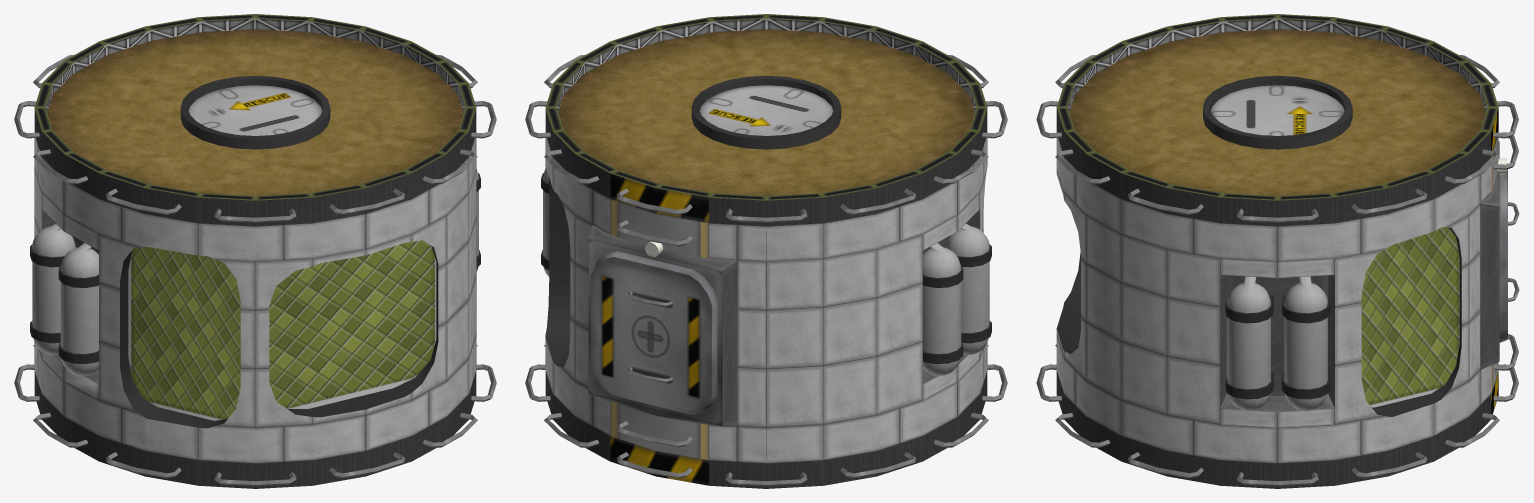
File: AirlockSpace.FBX
3 views of the same model, side by side, from view 1: azimuth 30°, elevation 25°; view 2: azimuth 150°, elevation 25°; view 3: azimuth 270°, elevation 25° (orthographic).
Visible parts, largest first — view 1: MainBody, TopEndCap, InternalBody, TankSleeve001, TankSleeve002, CrewPort, StorageTank007, StorageTank008, LadderRung081, LadderRung093; view 2: MainBody, TopEndCap, TankSleeve001, Hatch, TankSleeve002, CrewPort, StorageTank008, StorageTank007, StorageTank006, LadderRung077, LadderRung089; view 3: MainBody, TopEndCap, TankSleeve001, InternalBody, TankSleeve002, CrewPort, StorageTank006, StorageTank005, Hatch, MountingBracket011, MountingBracket009, MountingBracket012 (+3 smaller).
Part boxes in pixels (x1,y1,x2,y2): MainBody: [34, 138, 476, 463]; TopEndCap: [47, 29, 463, 195]; InternalBody: [128, 240, 436, 420]; TankSleeve001: [34, 14, 476, 226]; TankSleeve002: [34, 371, 476, 488]; CrewPort: [180, 75, 330, 149]; StorageTank007: [60, 243, 98, 375]; StorageTank008: [32, 223, 75, 354]; LadderRung081: [214, 208, 296, 222]; LadderRung093: [214, 472, 296, 486]; MainBody: [545, 138, 987, 463]; TopEndCap: [558, 29, 974, 195]; TankSleeve001: [545, 14, 987, 226]; Hatch: [590, 251, 717, 414]; TankSleeve002: [545, 371, 987, 488]; CrewPort: [691, 75, 841, 149]; StorageTank008: [923, 243, 961, 375]; StorageTank007: [946, 223, 989, 354]; StorageTank006: [543, 168, 549, 276]; LadderRung077: [725, 208, 807, 222]; LadderRung089: [725, 472, 807, 486]; MainBody: [1056, 138, 1499, 463]; TopEndCap: [1069, 29, 1485, 195]; TankSleeve001: [1056, 14, 1498, 226]; InternalBody: [1361, 227, 1459, 407]; TankSleeve002: [1056, 371, 1498, 488]; CrewPort: [1203, 75, 1352, 149]; StorageTank006: [1284, 276, 1327, 411]; StorageTank005: [1227, 276, 1270, 411]; Hatch: [1499, 163, 1507, 342]; MountingBracket011: [1281, 295, 1330, 323]; MountingBracket009: [1225, 295, 1273, 323]; MountingBracket012: [1281, 372, 1330, 399].
Size of the model in its own units: 2.05 by 1.35 by 2.05.
